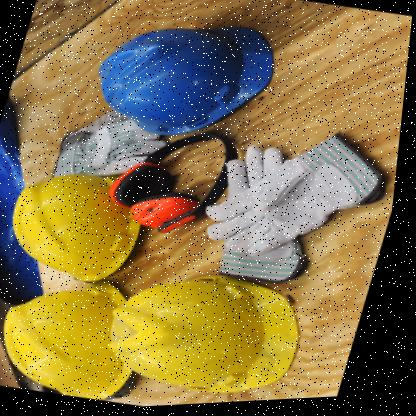helmet: (102, 252, 328, 409), (81, 0, 291, 159), (0, 262, 172, 411), (0, 157, 167, 294)
